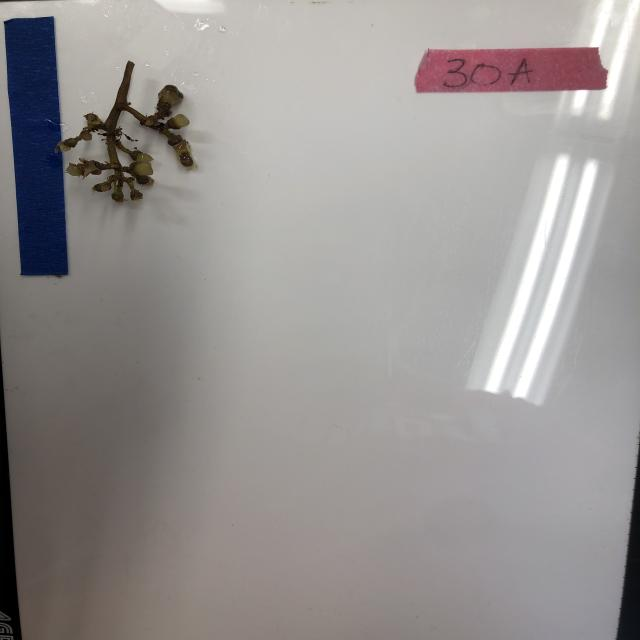index: (413, 44, 612, 94)
measure_label: (5, 14, 72, 279)
rachis_cluster: (60, 59, 206, 207)
